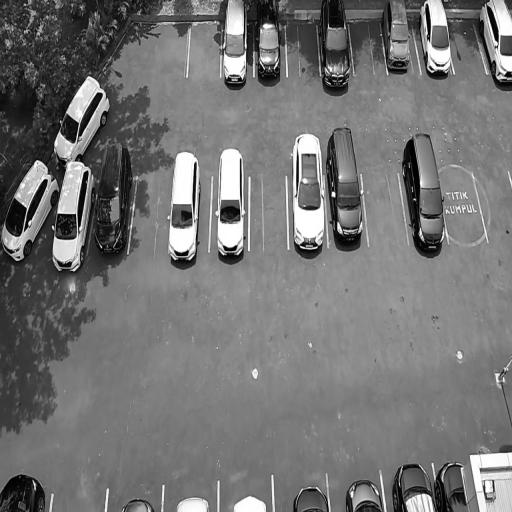Car: (399, 120, 453, 270), (0, 150, 62, 273), (46, 68, 116, 175), (45, 161, 98, 281), (91, 139, 138, 265), (328, 118, 367, 263), (166, 147, 206, 271), (291, 126, 326, 260), (214, 143, 248, 267), (472, 0, 512, 100), (319, 0, 357, 95), (418, 0, 456, 90), (380, 0, 419, 84), (223, 0, 248, 105), (255, 0, 280, 95), (394, 461, 434, 512), (0, 470, 47, 511), (342, 469, 383, 512), (437, 460, 467, 512), (291, 484, 330, 512), (229, 491, 268, 512), (174, 491, 211, 512), (121, 501, 156, 512)
Space Available: (129, 173, 172, 254), (362, 172, 409, 245), (442, 171, 488, 244), (250, 173, 288, 249), (475, 172, 511, 244), (349, 11, 387, 76), (447, 16, 488, 73), (286, 17, 321, 78), (186, 18, 221, 77), (51, 487, 107, 512)
